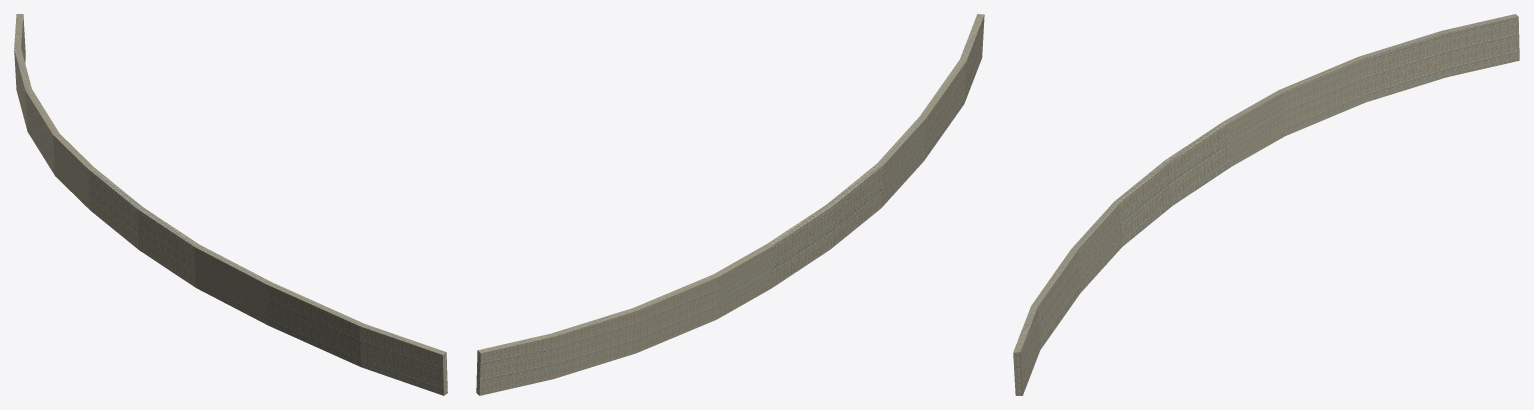
The model's file is SM_Scene_A_Blockout07.fbx.
3 renders of one model, left to right at view 1: azimuth 30°, elevation 25°; view 2: azimuth 150°, elevation 25°; view 3: azimuth 330°, elevation 25°, orthographic. The views are drawn at different scales.
Parts seen in each view (by area): view 1: SM_Scene_A_Blockout07.002, SM_Scene_A_Blockout07.003, SM_Scene_A_Blockout07.001, SM_Scene_A_Blockout07, SM_Scene_A_Blockout07.004; view 2: SM_Scene_A_Blockout07.001, SM_Scene_A_Blockout07.002, SM_Scene_A_Blockout07, SM_Scene_A_Blockout07.004, SM_Scene_A_Blockout07.003; view 3: SM_Scene_A_Blockout07.001, SM_Scene_A_Blockout07.002, SM_Scene_A_Blockout07, SM_Scene_A_Blockout07.004, SM_Scene_A_Blockout07.003.
Boxes of the visible parts, x1,y1,x2,y2 form: SM_Scene_A_Blockout07.002: (194,244,447,395); SM_Scene_A_Blockout07.003: (137,207,198,287); SM_Scene_A_Blockout07.001: (14,14,59,175); SM_Scene_A_Blockout07: (88,167,142,249); SM_Scene_A_Blockout07.004: (53,133,93,209); SM_Scene_A_Blockout07.001: (476,274,718,395); SM_Scene_A_Blockout07.002: (877,14,984,207); SM_Scene_A_Blockout07: (768,204,832,288); SM_Scene_A_Blockout07.004: (713,243,773,319); SM_Scene_A_Blockout07.003: (827,163,883,248); SM_Scene_A_Blockout07.001: (1279,14,1519,135); SM_Scene_A_Blockout07.002: (1013,202,1122,395); SM_Scene_A_Blockout07: (1165,121,1231,205); SM_Scene_A_Blockout07.004: (1224,90,1285,166); SM_Scene_A_Blockout07.003: (1114,160,1172,246).
Size of the model in its own units: 125205 by 43969 by 852893.
